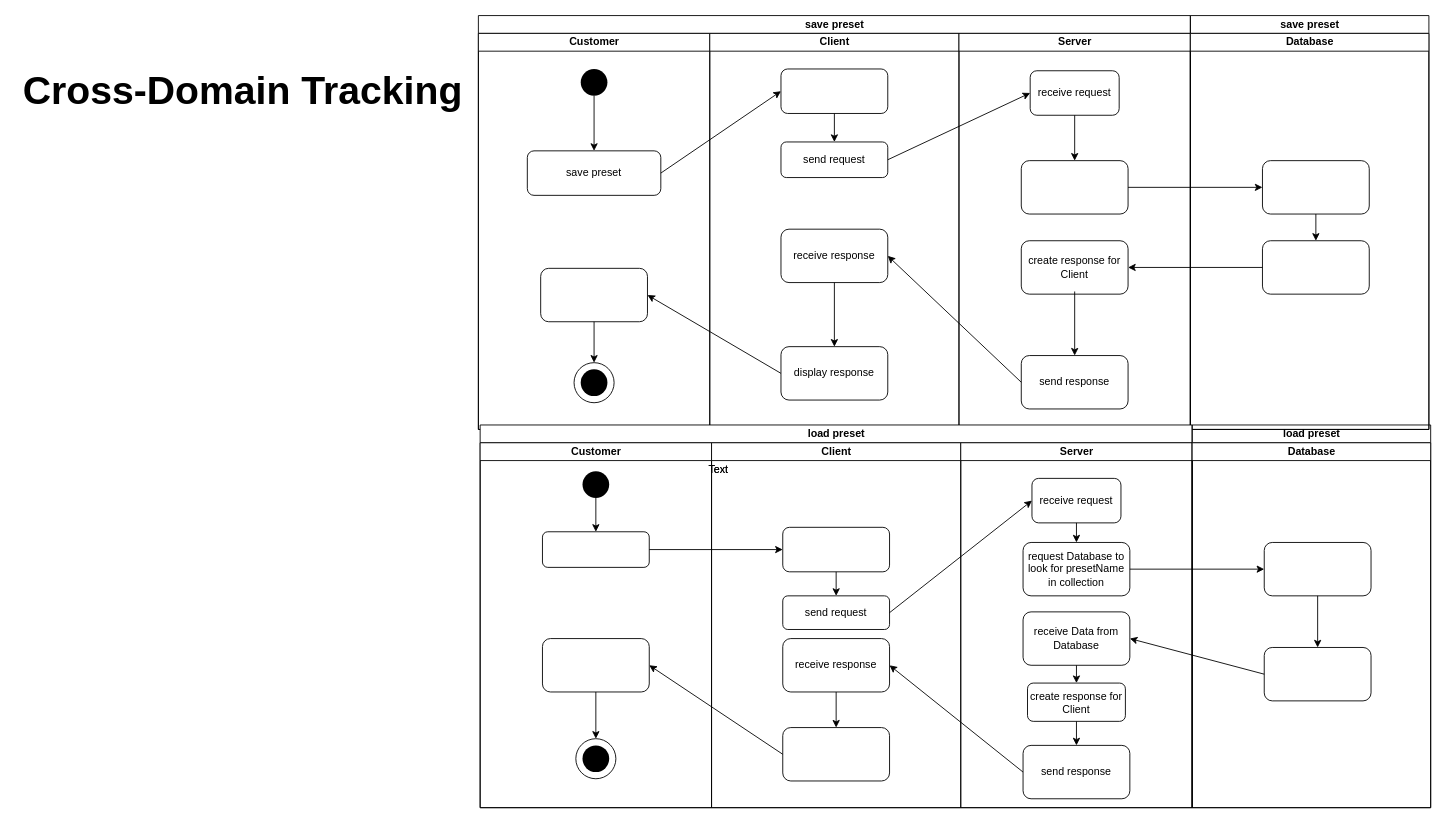
The diagram is 1446 pixels wide and 823 high, and some of its shapes have lost their labels. Here are the shapes that lost their labels. From the top down, the centre of each, then its label:
the point at 834,90: collect values from GUI
the point at 1074,187: request Database to insert the processed Data
the point at 1315,187: write received Data into Databas
the point at 1315,267: send confirmation
the point at 593,294: verify confirmation
the point at 595,549: select preset from list
the point at 836,549: call selected preset
the point at 1317,569: access collection of presetname
the point at 595,665: See´s changes and shoots loaded Rocket
the point at 1317,674: send saved Data of Collection
the point at 836,754: Set FormData Elements to received Values
